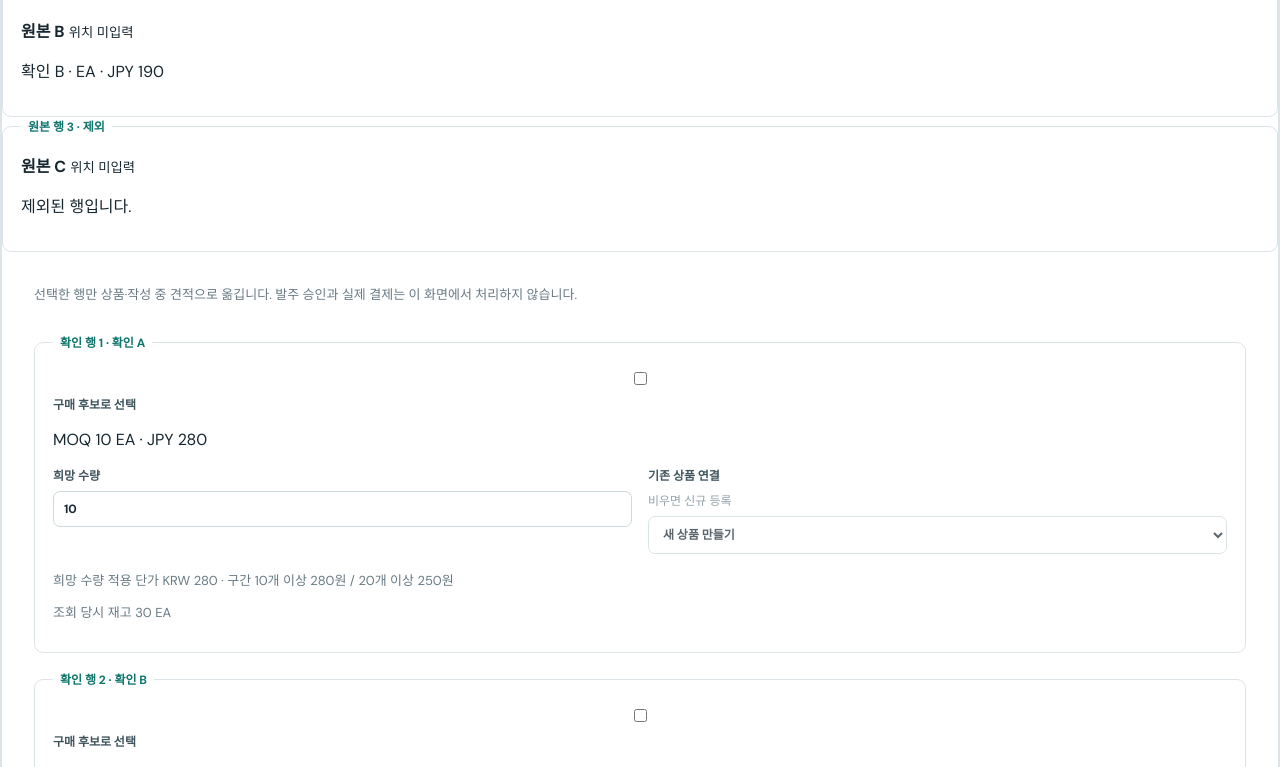
확인된 행 중 선택한 행과 희망 수량만 구매 선택 API에 보낸다
Later steps or results of the test are not shown.
(page scrolled)
Click the 1st checkbox labelled "구매 후보로 선택" at point(640, 379), box [57,372,1224,385]
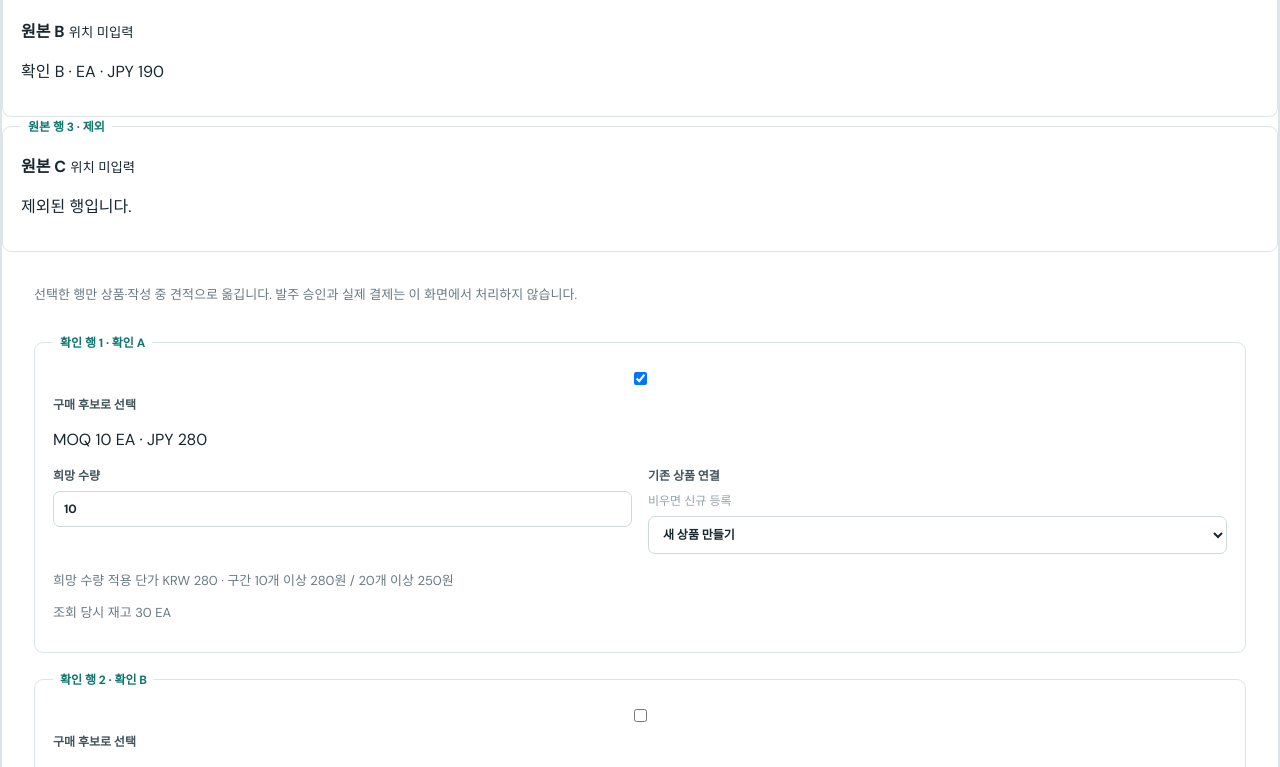
Expected: the text "조회 당시 재고 30 EA" is shown, [53,604,171,621]
Expected: the text "희망 수량 적용 단가 KRW 280 · 구간 10개 이상 280원 / 20개 이상 250원" is shown, [53,572,454,589]
Replace the text in the number field labelled "희망 수량" with "24" at point(342, 509), box [53,491,632,527]
(page scrolled)
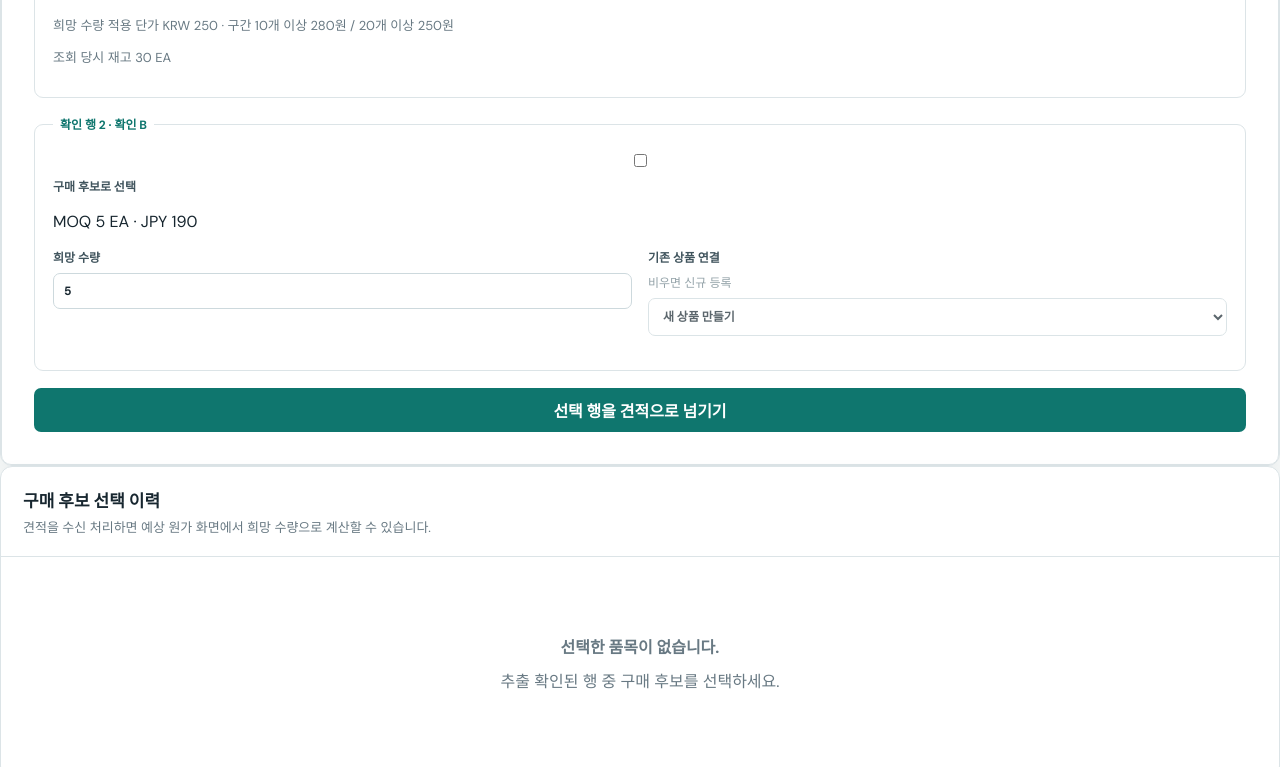
Now the text "희망 수량 적용 단가 KRW 250 · 구간 10개 이상 280원 / 20개 이상 250원" is shown, box [53,17,454,34]
